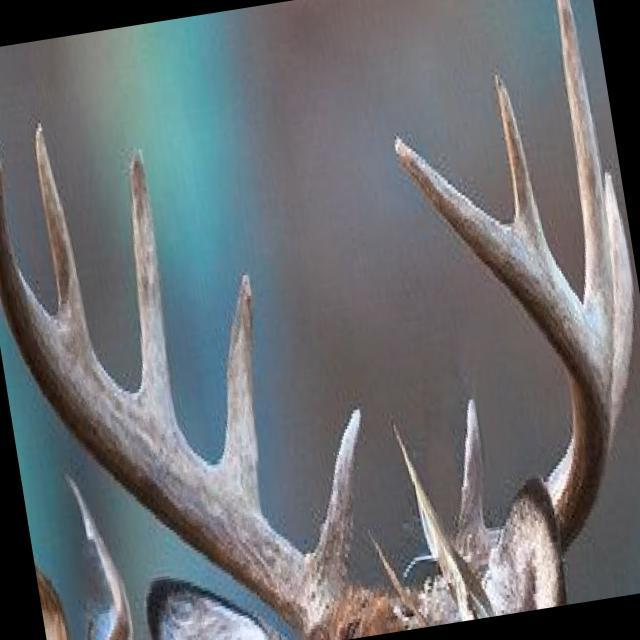L-G1: (455, 395, 487, 538)
L-G3: (554, 0, 615, 360)
L-G4: (489, 66, 550, 248)
R-F: (0, 157, 376, 640)
R-G1: (307, 403, 365, 587)
R-G2: (215, 270, 264, 517)
R-G3: (127, 146, 184, 437)
R-G4: (32, 115, 97, 357)
